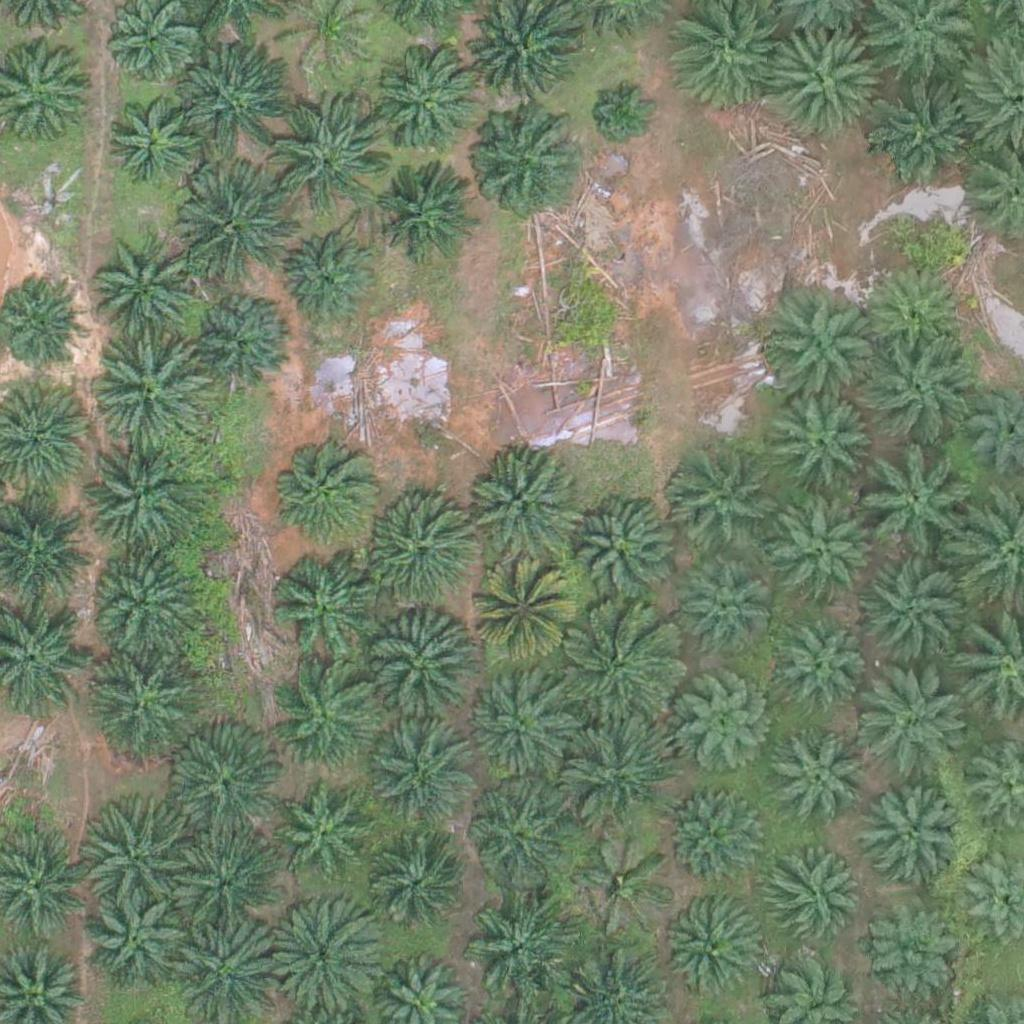Kelapa_Sawit: (265, 898, 378, 1012), (91, 541, 204, 655), (179, 169, 292, 283), (82, 446, 195, 560), (857, 554, 970, 667), (559, 719, 672, 832), (563, 607, 676, 720), (366, 614, 479, 727), (268, 556, 381, 669), (871, 77, 984, 190), (765, 24, 878, 137), (860, 450, 973, 563), (765, 293, 878, 406), (562, 495, 675, 608), (180, 43, 293, 156), (856, 671, 968, 785), (271, 661, 383, 775), (374, 44, 486, 158), (269, 433, 381, 547), (463, 887, 575, 1000), (172, 736, 284, 849), (83, 644, 195, 757), (83, 792, 195, 905), (866, 333, 978, 446), (768, 483, 880, 596), (662, 446, 774, 559), (465, 452, 577, 565), (355, 496, 467, 609), (468, 110, 580, 223), (272, 99, 384, 212), (93, 223, 205, 336), (97, 337, 209, 450), (863, 787, 963, 888), (768, 729, 868, 830), (760, 849, 860, 950), (666, 784, 766, 885), (663, 900, 763, 1001), (464, 673, 564, 774), (466, 785, 566, 886), (372, 730, 472, 831), (273, 785, 373, 886), (85, 890, 185, 991), (865, 263, 965, 364), (773, 397, 873, 498), (189, 290, 289, 391), (103, 86, 203, 187), (859, 899, 959, 999), (669, 679, 769, 779), (575, 835, 675, 935), (470, 567, 570, 667), (364, 844, 464, 944), (175, 833, 275, 933), (375, 163, 475, 263), (278, 236, 378, 336), (780, 624, 867, 712), (682, 569, 769, 657), (586, 73, 661, 148)
